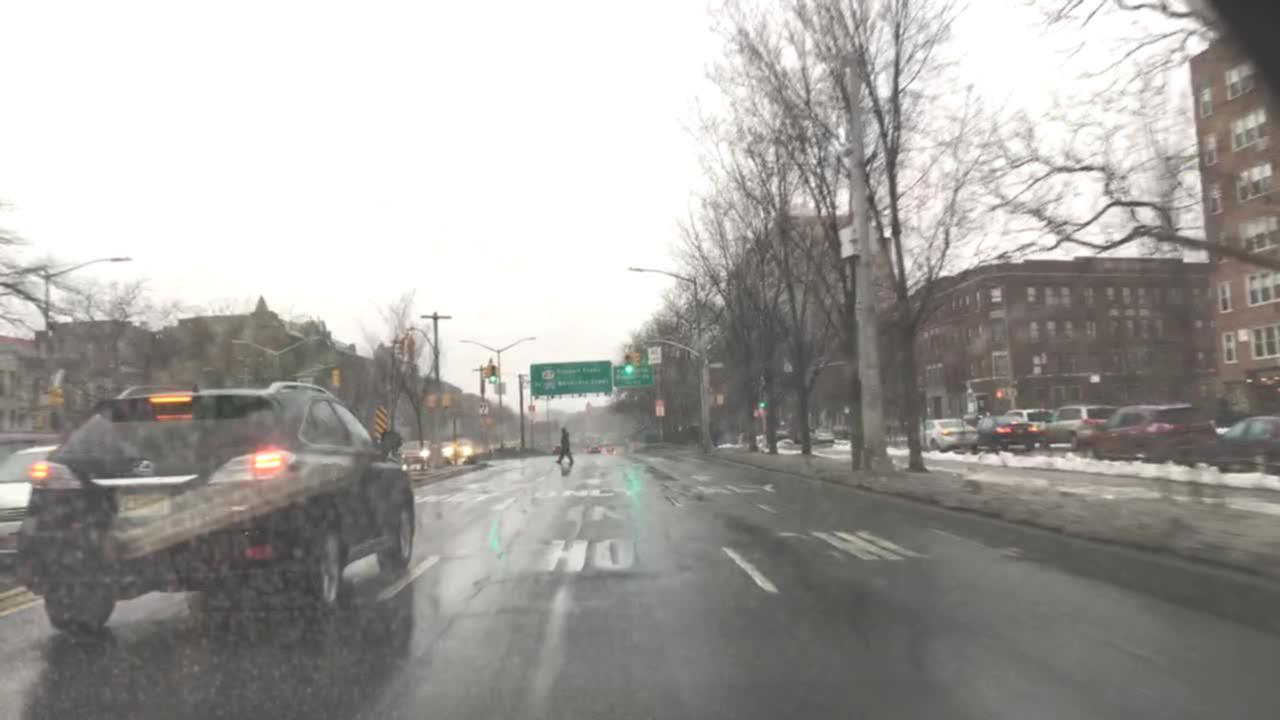lexus: (129, 451, 157, 477)
